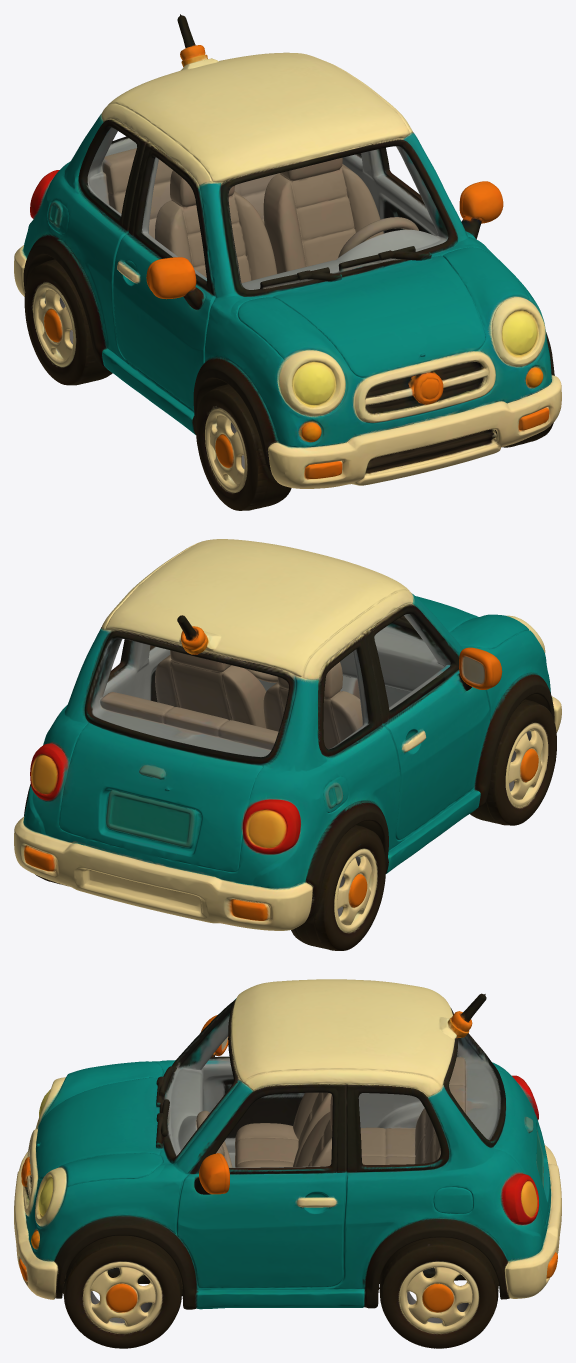
The model's file is StylizedCar.glb.
The picture shows the model from 3 angles, top to bottom: view 1: azimuth 30°, elevation 25°; view 2: azimuth 150°, elevation 25°; view 3: azimuth 270°, elevation 25°; orthographic projection. The views are drawn at different scales.
Visible parts, largest first — view 1: tripo_node_2e415f19-af50-4838-8b68-cb318ab44c98; view 2: tripo_node_2e415f19-af50-4838-8b68-cb318ab44c98; view 3: tripo_node_2e415f19-af50-4838-8b68-cb318ab44c98.
Part boxes in pixels (x1=…): tripo_node_2e415f19-af50-4838-8b68-cb318ab44c98: x1=14, y1=14, x2=561, y2=510; tripo_node_2e415f19-af50-4838-8b68-cb318ab44c98: x1=14, y1=539, x2=561, y2=950; tripo_node_2e415f19-af50-4838-8b68-cb318ab44c98: x1=14, y1=979, x2=561, y2=1348.
Bounding box in the file's own units: 0.6621 × 0.571 × 0.9784.
1 material, 1 textured.
